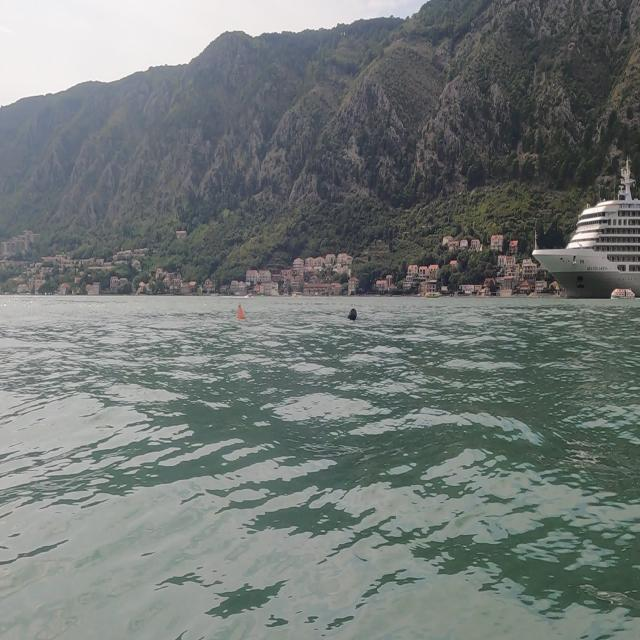boat: (530, 152, 638, 301)
buoy: (340, 292, 360, 332), (232, 298, 250, 326)
